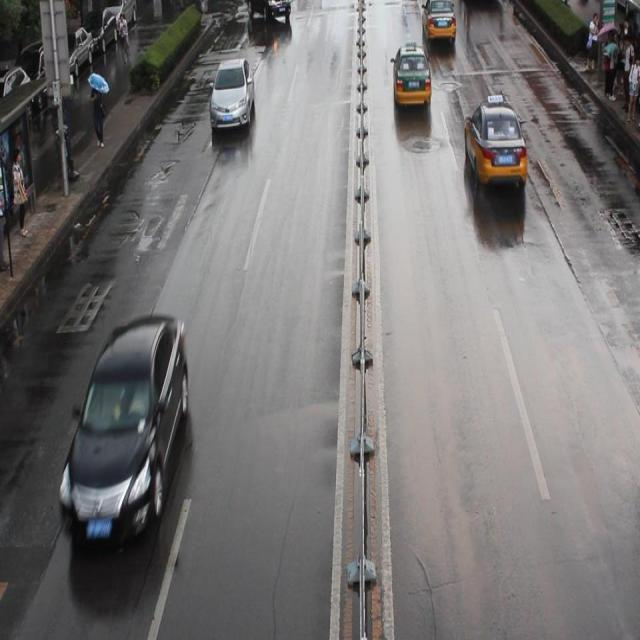car: (58, 309, 189, 549), (464, 99, 526, 187), (209, 58, 255, 132), (392, 45, 431, 108), (420, 1, 455, 40), (245, 1, 291, 18)
